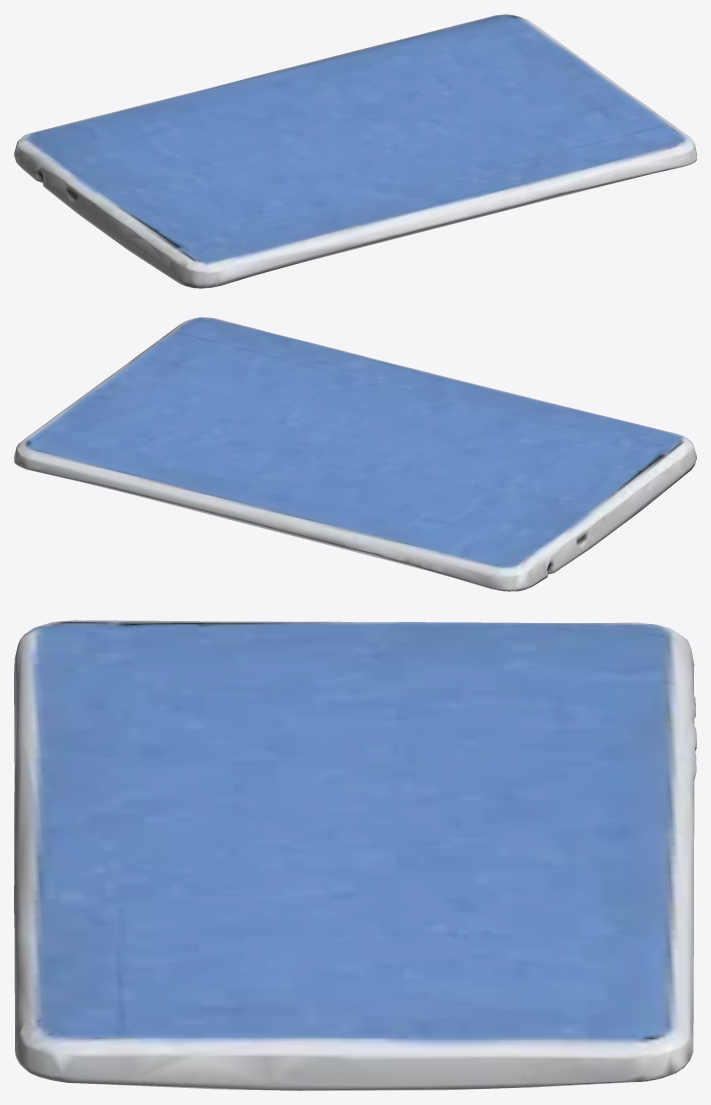
Rendered from HP_1800_Tablet_8GB_7-high.glb.
3 views of the same model, one above another, from view 1: azimuth 30°, elevation 25°; view 2: azimuth 150°, elevation 25°; view 3: azimuth 270°, elevation 25° (orthographic). The views are drawn at different scales.
Visible parts, largest first — view 1: HP_1800_Tablet_8GB_7; view 2: HP_1800_Tablet_8GB_7; view 3: HP_1800_Tablet_8GB_7.
Part boxes in pixels (<box>): HP_1800_Tablet_8GB_7: <box>14,14,696,288</box>; HP_1800_Tablet_8GB_7: <box>14,317,696,591</box>; HP_1800_Tablet_8GB_7: <box>14,620,696,1090</box>.
Bounding box in the file's own units: 0.1934 × 0.0132 × 0.1258.
1 material, 1 textured.
